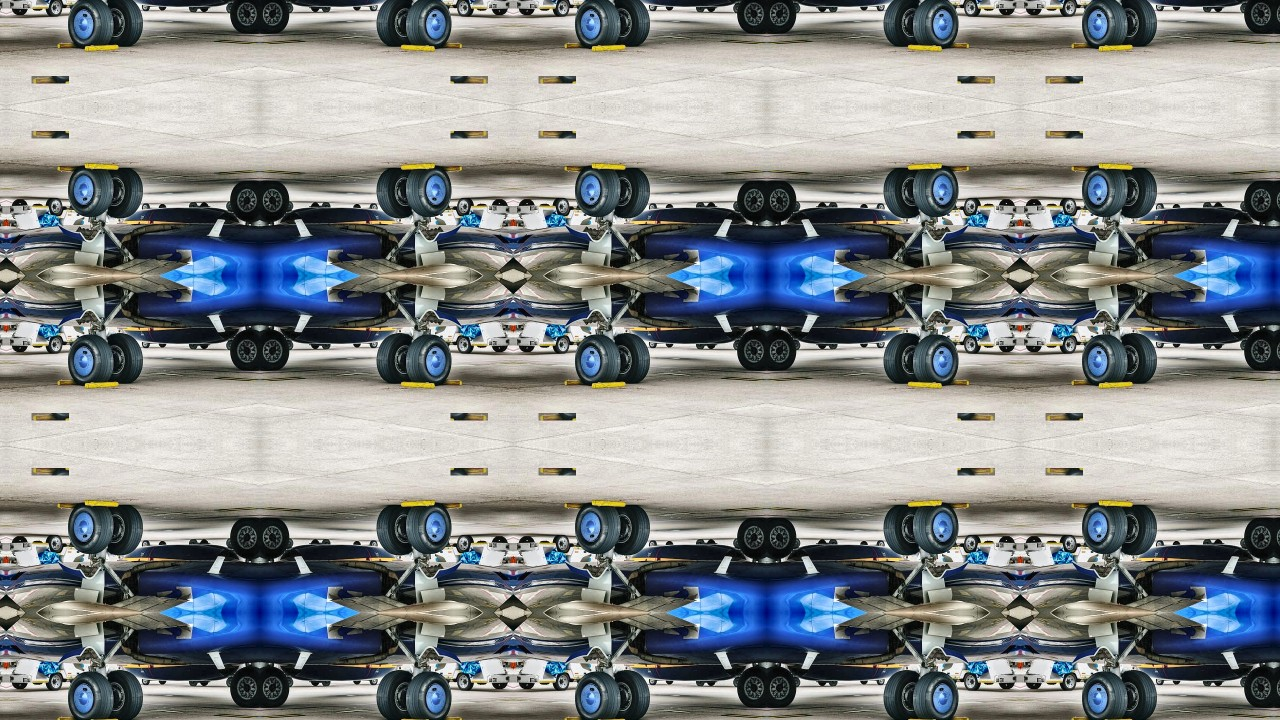chock: (450, 75, 488, 83), (958, 75, 996, 83), (450, 130, 488, 138), (958, 130, 996, 138), (31, 75, 68, 83), (539, 75, 576, 83), (1047, 75, 1084, 83), (31, 130, 68, 138), (539, 130, 576, 138), (1047, 130, 1084, 138), (450, 413, 488, 420), (958, 413, 996, 420), (450, 469, 488, 476), (958, 469, 996, 476), (83, 43, 120, 50), (398, 43, 435, 50), (591, 43, 628, 50), (906, 43, 943, 50), (1099, 43, 1136, 50), (83, 163, 120, 170), (398, 163, 435, 170), (591, 163, 628, 170), (906, 163, 943, 170), (1099, 163, 1136, 170), (83, 381, 120, 388), (31, 413, 68, 420), (398, 381, 435, 388), (591, 381, 628, 388), (539, 413, 576, 420), (906, 381, 943, 388), (1099, 381, 1136, 388), (1047, 413, 1084, 420), (83, 501, 120, 508), (31, 469, 68, 476), (398, 501, 435, 508), (591, 501, 628, 508), (539, 469, 576, 476), (906, 501, 943, 508), (1099, 501, 1136, 508), (1047, 469, 1084, 476), (55, 41, 87, 47), (431, 41, 463, 47), (563, 41, 595, 47), (939, 41, 971, 47), (1071, 41, 1103, 47), (55, 166, 87, 172), (431, 166, 463, 172), (563, 166, 595, 172), (939, 166, 971, 172), (1071, 166, 1103, 172), (55, 379, 87, 385), (431, 379, 463, 385), (563, 379, 595, 385), (939, 379, 971, 385), (1071, 379, 1103, 385), (55, 504, 87, 510), (431, 504, 463, 510), (563, 504, 595, 510), (939, 504, 971, 510), (1071, 504, 1103, 510), (55, 717, 87, 720), (431, 717, 463, 720), (563, 717, 595, 720), (939, 717, 971, 720), (1071, 717, 1103, 720)
wheel: (66, 167, 112, 218), (406, 167, 452, 218), (574, 167, 620, 218), (914, 167, 960, 218), (1082, 167, 1128, 218), (66, 334, 112, 384), (406, 334, 452, 384), (574, 334, 620, 384), (914, 334, 960, 384), (1082, 334, 1128, 384), (66, 505, 112, 555), (406, 505, 452, 555), (574, 505, 620, 555), (914, 505, 960, 555), (1082, 505, 1128, 555), (66, 671, 112, 720), (406, 671, 452, 720), (574, 671, 620, 720), (914, 671, 960, 720), (1082, 671, 1128, 720), (66, 0, 112, 47), (406, 0, 452, 47), (574, 0, 620, 47), (914, 0, 960, 47), (1082, 0, 1128, 47), (103, 506, 142, 556), (611, 506, 650, 556), (1119, 506, 1158, 556), (103, 169, 142, 218), (611, 169, 650, 218), (1119, 169, 1158, 218), (103, 333, 142, 382), (611, 333, 650, 382), (1119, 333, 1158, 382), (103, 671, 142, 720), (611, 671, 650, 720), (1119, 671, 1158, 720), (376, 506, 414, 556), (884, 506, 922, 556), (376, 169, 414, 218), (884, 169, 922, 218), (376, 333, 414, 382), (884, 333, 922, 382), (376, 671, 414, 720), (884, 671, 922, 720), (103, 0, 142, 45), (611, 0, 650, 45), (1119, 0, 1158, 45), (376, 0, 414, 45), (884, 0, 922, 45), (259, 181, 290, 221), (767, 181, 798, 221), (259, 330, 290, 370), (767, 330, 798, 370), (259, 519, 290, 559), (767, 519, 798, 559), (259, 668, 290, 708), (767, 668, 798, 708), (229, 181, 259, 221), (737, 181, 767, 221), (1245, 181, 1275, 221), (229, 330, 259, 370), (737, 330, 767, 370), (1245, 330, 1275, 370), (229, 519, 259, 559), (737, 519, 767, 559), (1245, 519, 1275, 559), (229, 668, 259, 708), (737, 668, 767, 708), (1245, 668, 1275, 708), (259, 0, 290, 32), (767, 0, 798, 32), (229, 0, 259, 32), (737, 0, 767, 32), (1245, 0, 1275, 32), (44, 197, 61, 215), (456, 197, 473, 215), (552, 197, 569, 215), (964, 197, 981, 215), (1060, 197, 1077, 215), (44, 674, 61, 692), (456, 674, 473, 692), (552, 674, 569, 692), (964, 674, 981, 692), (1060, 674, 1077, 692), (44, 336, 61, 353), (456, 336, 473, 353), (552, 336, 569, 353), (964, 336, 981, 353), (1060, 336, 1077, 353), (44, 536, 61, 553), (456, 536, 473, 553), (552, 536, 569, 553), (964, 536, 981, 553), (1060, 536, 1077, 553), (44, 0, 61, 16), (456, 0, 473, 16), (552, 0, 569, 16), (964, 0, 981, 16), (1060, 0, 1077, 16), (1275, 181, 1280, 221), (1275, 330, 1280, 370), (1275, 519, 1280, 559), (1275, 668, 1280, 708), (1275, 0, 1280, 32), (492, 7, 508, 14), (1000, 7, 1016, 14), (492, 199, 508, 206), (1000, 199, 1016, 206), (492, 345, 508, 352), (1000, 345, 1016, 352), (492, 683, 508, 690), (1000, 683, 1016, 690), (11, 7, 26, 14), (519, 7, 534, 14), (1027, 7, 1042, 14), (11, 199, 26, 206), (519, 199, 534, 206), (1027, 199, 1042, 206), (11, 345, 26, 352), (519, 345, 534, 352), (1027, 345, 1042, 352), (11, 683, 26, 690), (519, 683, 534, 690), (1027, 683, 1042, 690), (492, 538, 508, 544), (1000, 538, 1016, 544), (11, 538, 26, 544), (519, 538, 534, 544), (1027, 538, 1042, 544), (286, 2, 293, 12), (794, 2, 801, 12), (286, 201, 293, 211), (794, 201, 801, 211), (286, 340, 293, 350), (794, 340, 801, 350), (286, 539, 293, 549), (794, 539, 801, 549), (286, 678, 293, 688), (794, 678, 801, 688), (44, 7, 52, 15), (552, 7, 560, 15), (1060, 7, 1068, 15), (44, 345, 52, 353), (552, 345, 560, 353), (1060, 345, 1068, 353), (44, 536, 52, 544), (552, 536, 560, 544), (1060, 536, 1068, 544), (225, 2, 231, 12), (733, 2, 739, 12), (1241, 2, 1247, 12), (225, 201, 231, 211), (733, 201, 739, 211), (1241, 201, 1247, 211), (225, 340, 231, 350), (733, 340, 739, 350), (1241, 340, 1247, 350), (225, 539, 231, 549), (733, 539, 739, 549), (1241, 539, 1247, 549), (225, 678, 231, 688), (733, 678, 739, 688), (1241, 678, 1247, 688), (467, 7, 474, 15), (975, 7, 982, 15), (44, 199, 52, 206), (552, 199, 560, 206), (1060, 199, 1068, 206), (467, 345, 474, 353), (975, 345, 982, 353), (467, 536, 474, 544), (975, 536, 982, 544), (44, 683, 52, 690), (552, 683, 560, 690), (1060, 683, 1068, 690), (467, 199, 474, 206), (975, 199, 982, 206), (467, 683, 474, 690), (975, 683, 982, 690), (141, 4, 149, 10), (370, 4, 378, 10), (649, 4, 657, 10), (878, 4, 886, 10), (1157, 4, 1165, 10), (141, 203, 149, 209), (370, 203, 378, 209), (649, 203, 657, 209), (878, 203, 886, 209), (1157, 203, 1165, 209), (141, 680, 149, 686), (370, 680, 378, 686), (649, 680, 657, 686), (878, 680, 886, 686), (1157, 680, 1165, 686), (321, 6, 330, 11), (829, 6, 838, 11), (199, 202, 208, 207), (321, 202, 330, 207), (310, 202, 319, 207), (707, 202, 716, 207), (829, 202, 838, 207), (818, 202, 827, 207), (1215, 202, 1224, 207), (199, 344, 208, 349), (321, 344, 330, 349), (310, 344, 319, 349), (707, 344, 716, 349), (829, 344, 838, 349), (818, 344, 827, 349), (1215, 344, 1224, 349), (199, 540, 208, 545), (321, 540, 330, 545), (310, 540, 319, 545), (707, 540, 716, 545), (829, 540, 838, 545), (818, 540, 827, 545), (1215, 540, 1224, 545), (321, 682, 330, 687), (829, 682, 838, 687), (188, 6, 196, 11), (696, 6, 704, 11), (1204, 6, 1212, 11), (188, 202, 196, 207), (696, 202, 704, 207), (1204, 202, 1212, 207), (188, 344, 196, 349), (141, 342, 149, 347), (370, 342, 378, 347), (696, 344, 704, 349), (649, 342, 657, 347), (878, 342, 886, 347), (1204, 344, 1212, 349), (1157, 342, 1165, 347), (188, 540, 196, 545), (141, 542, 149, 547), (370, 542, 378, 547), (696, 540, 704, 545), (649, 542, 657, 547), (878, 542, 886, 547), (1204, 540, 1212, 545), (1157, 542, 1165, 547), (188, 682, 196, 687), (696, 682, 704, 687), (1204, 682, 1212, 687), (199, 6, 208, 10), (310, 6, 319, 10), (707, 6, 716, 10), (818, 6, 827, 10), (1215, 6, 1224, 10), (199, 682, 208, 686), (310, 682, 319, 686), (707, 682, 716, 686), (818, 682, 827, 686), (1215, 682, 1224, 686), (31, 345, 41, 348), (539, 345, 549, 348), (1047, 345, 1057, 348), (31, 541, 41, 544), (539, 541, 549, 544), (1047, 541, 1057, 544), (158, 5, 165, 9), (353, 5, 360, 9), (666, 5, 673, 9), (861, 5, 868, 9), (1174, 5, 1181, 9), (158, 204, 165, 208), (353, 204, 360, 208), (666, 204, 673, 208), (861, 204, 868, 208), (1174, 204, 1181, 208), (158, 343, 165, 347), (353, 343, 360, 347), (666, 343, 673, 347), (861, 343, 868, 347), (1174, 343, 1181, 347), (158, 542, 165, 546), (353, 542, 360, 546), (666, 542, 673, 546), (861, 542, 868, 546), (1174, 542, 1181, 546), (158, 681, 165, 685), (353, 681, 360, 685), (666, 681, 673, 685), (861, 681, 868, 685), (1174, 681, 1181, 685), (477, 345, 486, 348), (985, 345, 994, 348), (477, 541, 486, 544), (985, 541, 994, 544), (61, 206, 67, 210), (569, 206, 575, 210), (1077, 206, 1083, 210), (61, 341, 67, 345), (569, 341, 575, 345), (1077, 341, 1083, 345), (31, 7, 41, 9), (539, 7, 549, 9), (1047, 7, 1057, 9), (31, 204, 41, 206), (452, 206, 457, 210), (539, 204, 549, 206), (960, 206, 965, 210), (1047, 204, 1057, 206), (452, 341, 457, 345), (960, 341, 965, 345), (31, 683, 41, 685), (539, 683, 549, 685), (1047, 683, 1057, 685), (61, 3, 67, 6), (477, 7, 486, 9), (569, 3, 575, 6), (985, 7, 994, 9), (1077, 3, 1083, 6), (477, 204, 486, 206), (985, 204, 994, 206), (61, 545, 67, 548), (569, 545, 575, 548), (1077, 545, 1083, 548), (61, 679, 67, 682), (477, 683, 486, 685), (569, 679, 575, 682), (985, 683, 994, 685), (1077, 679, 1083, 682), (452, 3, 457, 6), (960, 3, 965, 6), (452, 545, 457, 548), (960, 545, 965, 548), (452, 679, 457, 682), (960, 679, 965, 682)
